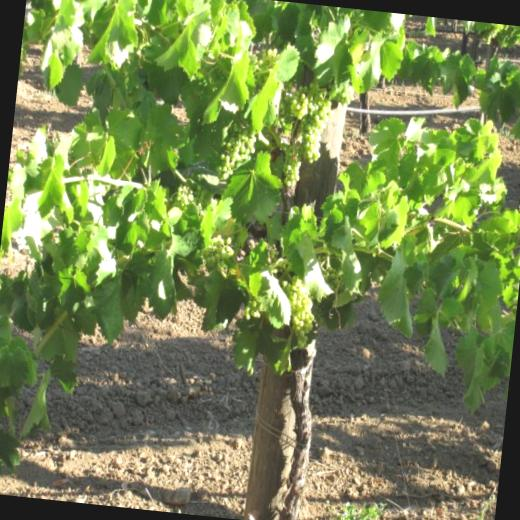Orange: (270, 75, 356, 192), (214, 108, 258, 184), (275, 274, 319, 348), (310, 256, 345, 324), (166, 170, 212, 216), (200, 232, 234, 272), (253, 46, 281, 90), (267, 247, 289, 275), (242, 295, 263, 322)
